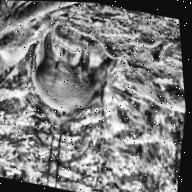boar: (11, 23, 136, 125)
